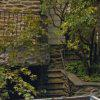Tree: (47, 2, 100, 78)
